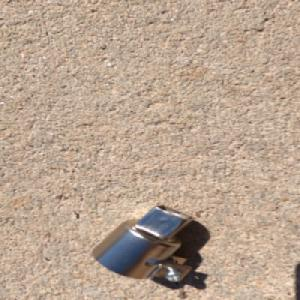MetalPart: (89, 204, 196, 282)
